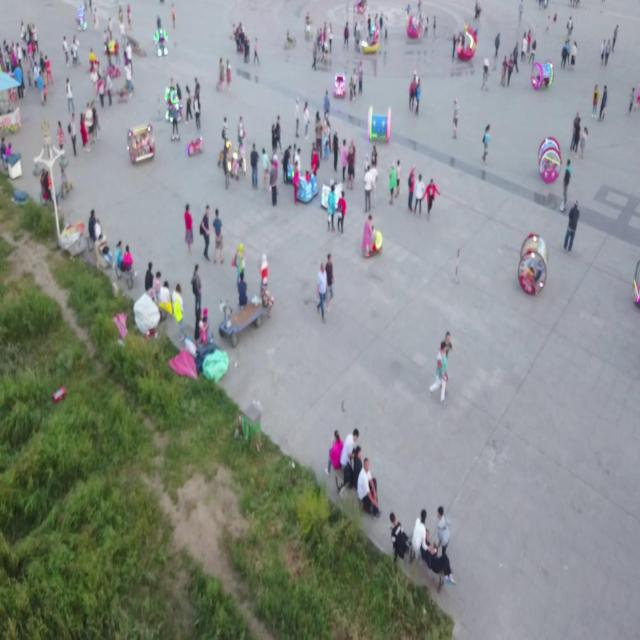person: (563, 200, 579, 252)
